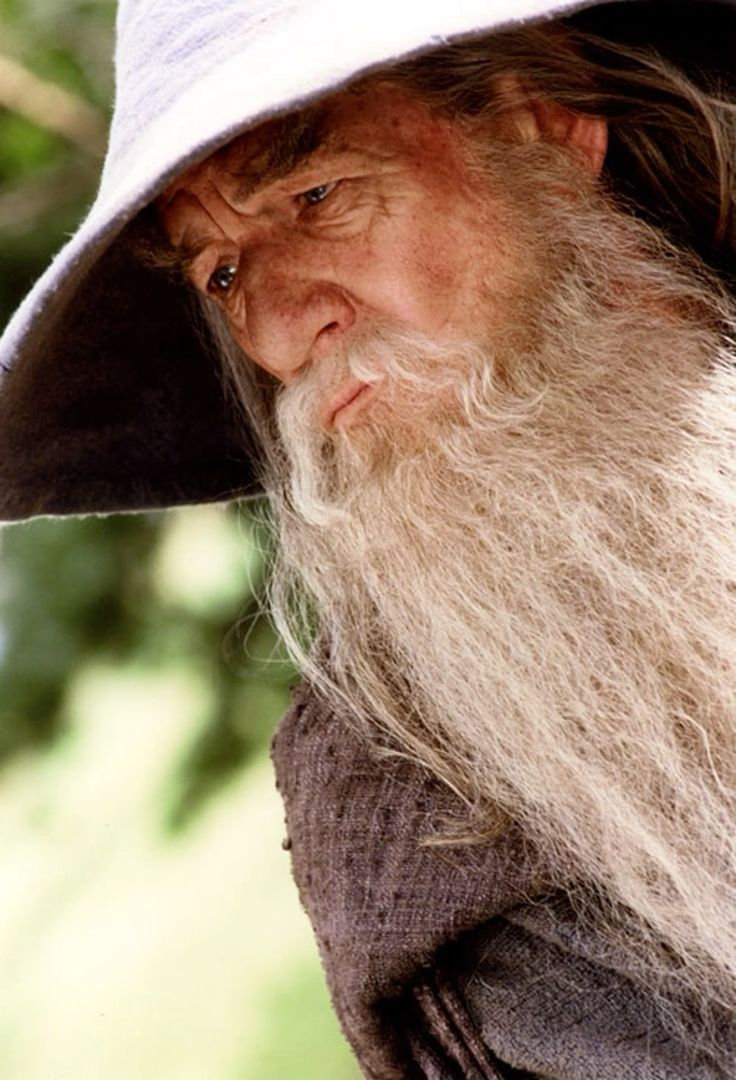gandalf grey: (5, 5, 733, 1036)
